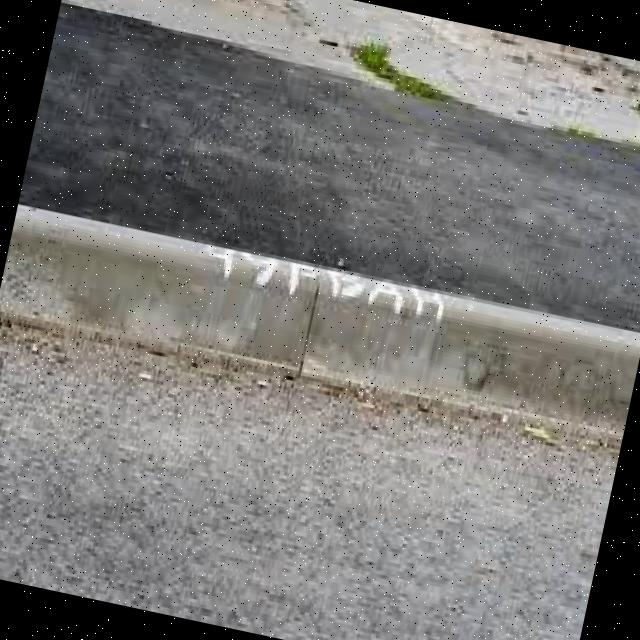curb: (1, 194, 640, 454)
